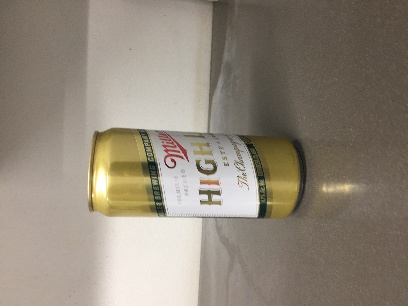ML: (68, 92, 218, 160)
